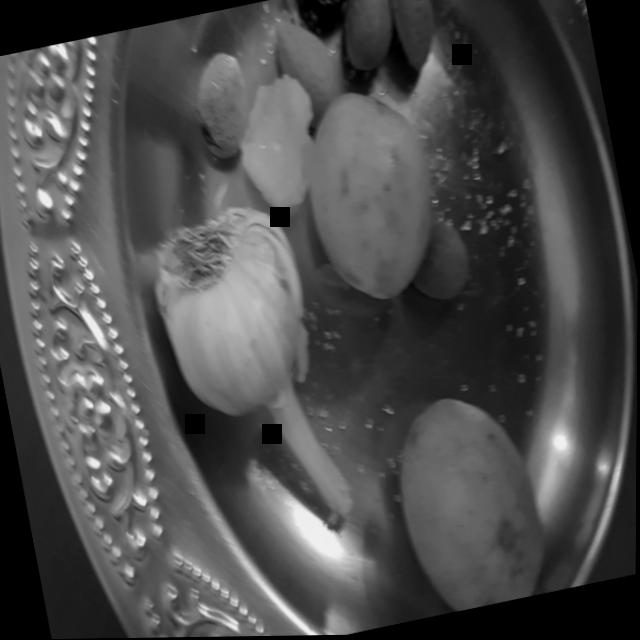garlic: (133, 193, 370, 560)
lemon: (280, 71, 471, 319), (375, 376, 564, 622)
